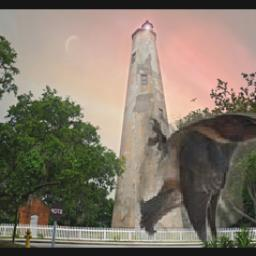Swallow: (135, 114, 256, 243)
